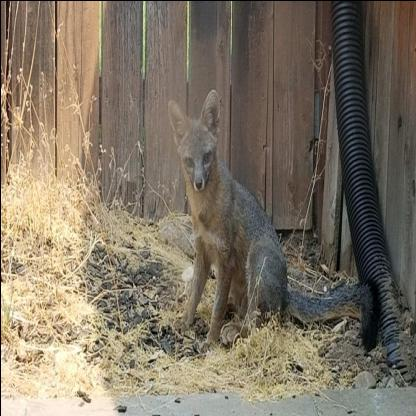zorro: (150, 81, 383, 360)
